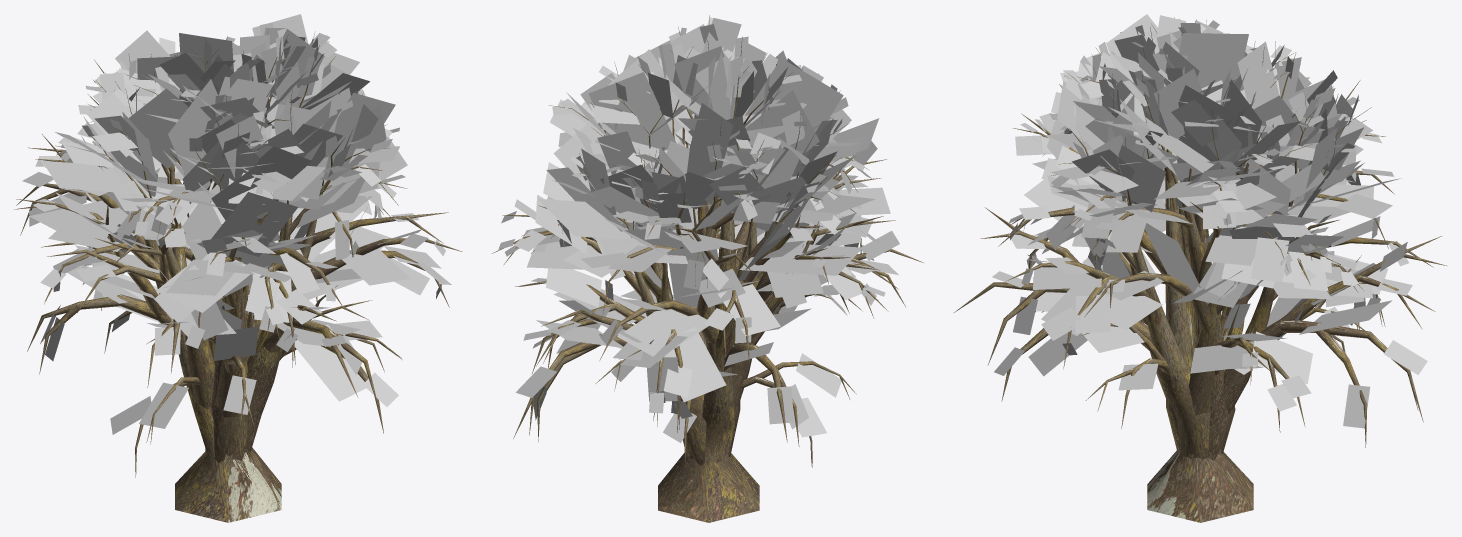
File: SwampTrees.fbx
3 views of the same model, side by side, from view 1: azimuth 30°, elevation 25°; view 2: azimuth 150°, elevation 25°; view 3: azimuth 270°, elevation 25° (orthographic). The views are drawn at different scales.
Visible parts, largest first — view 1: SwampTreeLeaves_LOD0, SwampTree_LOD0; view 2: SwampTreeLeaves_LOD0, SwampTree_LOD0; view 3: SwampTreeLeaves_LOD0, SwampTree_LOD0.
Boxes of the visible parts, x1,y1,x2,y2 form: SwampTreeLeaves_LOD0: (22, 14, 451, 434); SwampTree_LOD0: (14, 30, 462, 522); SwampTreeLeaves_LOD0: (498, 17, 899, 442); SwampTree_LOD0: (491, 15, 923, 522); SwampTreeLeaves_LOD0: (992, 14, 1427, 428); SwampTree_LOD0: (954, 17, 1446, 522).
Size of what is drawn, in the model's own units: 5.15 by 6.5 by 6.12.
